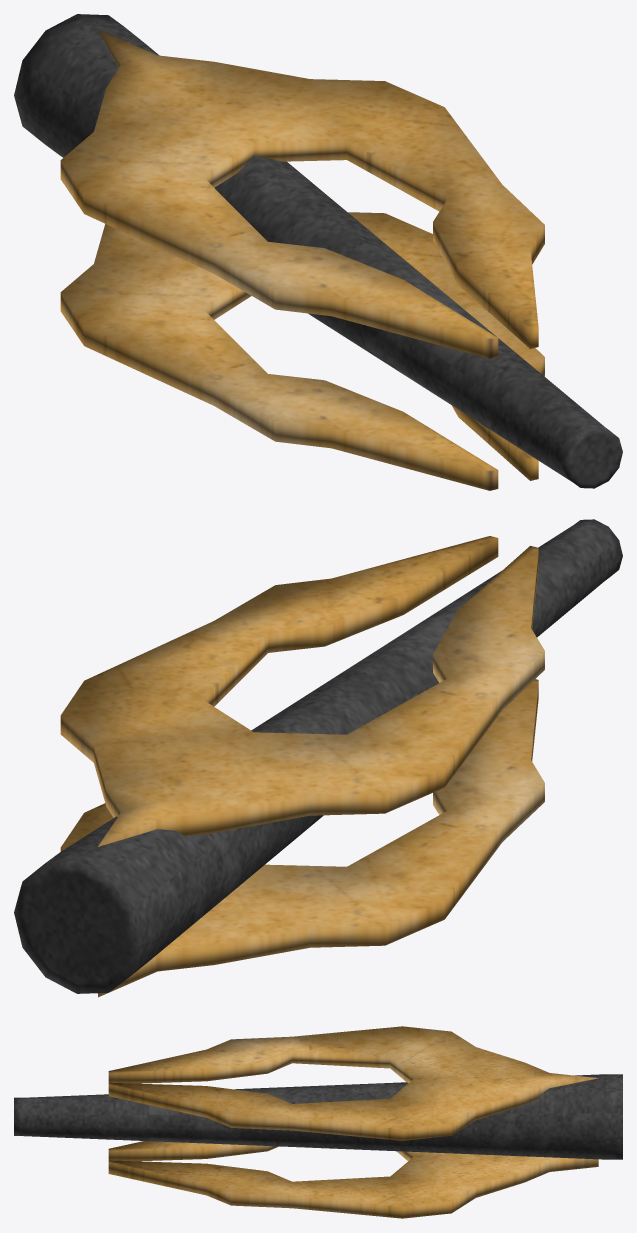
The model's file is Amulet.Symbol.fbx.
3 views of the same model, one above another, from view 1: azimuth 30°, elevation 25°; view 2: azimuth 150°, elevation 25°; view 3: azimuth 270°, elevation 25° (orthographic). The views are drawn at different scales.
Parts seen in each view (by area): view 1: Symbol.001, Symbol.002, Cylinder; view 2: Symbol.001, Cylinder, Symbol.002; view 3: Symbol.001, Cylinder, Symbol.002.
Part boxes in pixels (x1=…): Symbol.001: x1=60, y1=29, x2=544, y2=358; Symbol.002: x1=60, y1=212, x2=544, y2=490; Cylinder: x1=14, y1=14, x2=622, y2=488; Symbol.001: x1=60, y1=536, x2=544, y2=846; Cylinder: x1=14, y1=519, x2=622, y2=993; Symbol.002: x1=60, y1=679, x2=544, y2=997; Symbol.001: x1=108, y1=1026, x2=598, y2=1140; Cylinder: x1=14, y1=1074, x2=622, y2=1159; Symbol.002: x1=108, y1=1141, x2=598, y2=1218.
Bounding box in the file's own units: 20 × 8 × 49.72.
